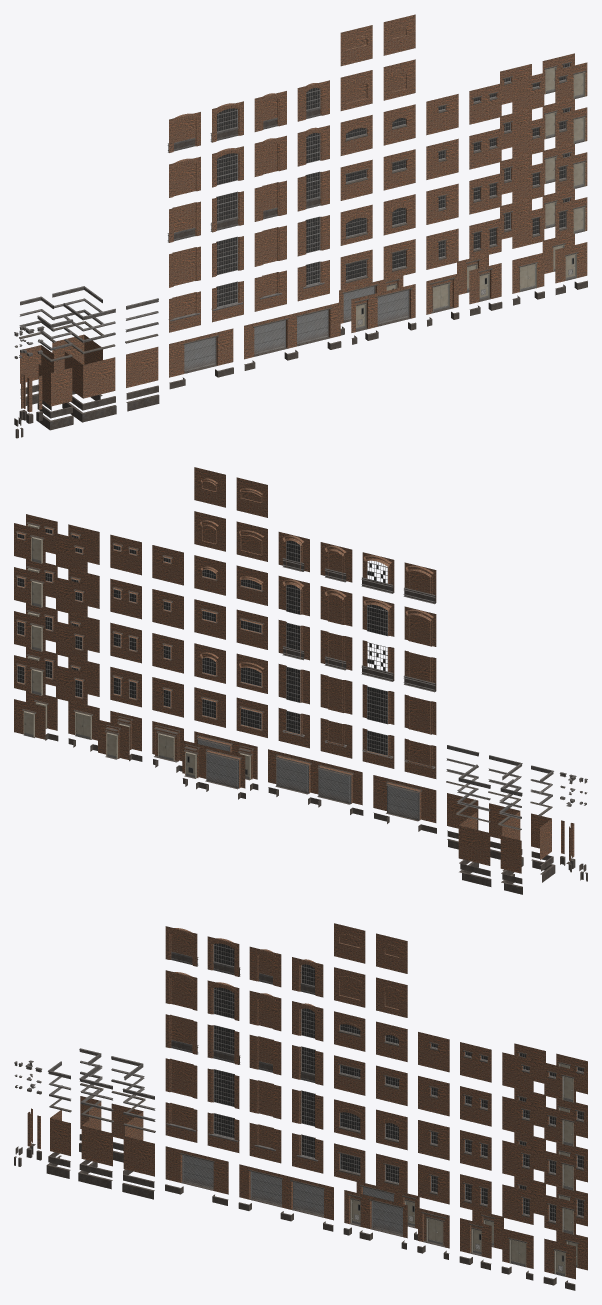
Rendered from modular_factory_facade.glb.
3 renders of one model, top to bottom at view 1: azimuth 30°, elevation 25°; view 2: azimuth 150°, elevation 25°; view 3: azimuth 330°, elevation 25°, orthographic.
Parts seen in each view (by area): view 1: door_garage_double_01, wall_standard_corner_large_01, wall_door_garage_double_01, door_garage_door_01, wall_door_garage_centered_01, wall_window_centered_medium_05, wall_window_tall_small_09, wall_standard_standard_01, wall_window_centered_large_05, wall_window_centered_medium_06, wall_window_tall_small_07, wall_window_centered_large_06 (+57 smaller); view 2: door_garage_double_01, door_garage_door_02, wall_door_garage_double_01, wall_door_garage_centered_01, wall_standard_corner_large_02, wall_window_tall_large_09, wall_window_tall_small_09, wall_window_tall_large_07, wall_window_tall_small_07, wall_window_tall_small_06, wall_window_tall_large_06, wall_window_centered_medium_06 (+62 smaller); view 3: door_garage_double_01, wall_door_garage_double_01, door_garage_door_01, wall_door_garage_centered_01, wall_standard_corner_large_01, wall_window_tall_large_09, wall_window_tall_large_07, wall_window_tall_small_07, wall_window_tall_small_09, wall_window_tall_small_06, wall_window_centered_large_05, wall_window_tall_large_06 (+67 smaller).
Part boxes in pixels (x1=…): door_garage_double_01: x1=253, y1=307, x2=331, y2=356; wall_standard_corner_large_01: x1=64, y1=352, x2=115, y2=398; wall_door_garage_double_01: x1=244, y1=302, x2=340, y2=359; door_garage_door_01: x1=355, y1=288, x2=412, y2=331; wall_door_garage_centered_01: x1=169, y1=328, x2=233, y2=377; wall_window_centered_medium_05: x1=383, y1=59, x2=415, y2=100; wall_window_tall_small_09: x1=254, y1=135, x2=286, y2=176; wall_standard_standard_01: x1=126, y1=347, x2=158, y2=387; wall_window_centered_large_05: x1=340, y1=70, x2=372, y2=110; wall_window_centered_medium_06: x1=383, y1=14, x2=415, y2=55; wall_window_tall_small_07: x1=254, y1=225, x2=286, y2=266; wall_window_centered_large_06: x1=340, y1=25, x2=372, y2=66; door_garage_double_01: x1=275, y1=754, x2=353, y2=804; door_garage_door_02: x1=184, y1=744, x2=241, y2=789; wall_door_garage_double_01: x1=268, y1=749, x2=362, y2=805; wall_door_garage_centered_01: x1=373, y1=775, x2=436, y2=822; wall_standard_corner_large_02: x1=458, y1=812, x2=490, y2=865; wall_window_tall_large_09: x1=404, y1=606, x2=436, y2=646; wall_window_tall_small_09: x1=320, y1=586, x2=352, y2=626; wall_window_tall_large_07: x1=404, y1=694, x2=436, y2=734; wall_window_tall_small_07: x1=320, y1=674, x2=352, y2=714; wall_window_tall_small_06: x1=320, y1=718, x2=352, y2=758; wall_window_tall_large_06: x1=404, y1=738, x2=436, y2=778; wall_window_centered_medium_06: x1=194, y1=467, x2=225, y2=507; door_garage_double_01: x1=248, y1=1169, x2=324, y2=1217; wall_door_garage_double_01: x1=239, y1=1164, x2=333, y2=1220; door_garage_door_01: x1=348, y1=1194, x2=403, y2=1236; wall_door_garage_centered_01: x1=165, y1=1146, x2=228, y2=1194; wall_standard_corner_large_01: x1=81, y1=1112, x2=112, y2=1166; wall_window_tall_large_09: x1=165, y1=970, x2=197, y2=1010; wall_window_tall_large_07: x1=165, y1=1058, x2=197, y2=1098; wall_window_tall_small_07: x1=249, y1=1079, x2=281, y2=1119; wall_window_tall_small_09: x1=249, y1=991, x2=281, y2=1031; wall_window_tall_small_06: x1=249, y1=1123, x2=281, y2=1163; wall_window_centered_large_05: x1=334, y1=967, x2=365, y2=1007; wall_window_tall_large_06: x1=165, y1=1102, x2=197, y2=1142.
Size of the model in its own units: 53.33 by 29 by 5.36.
6 materials, 6 textured.
